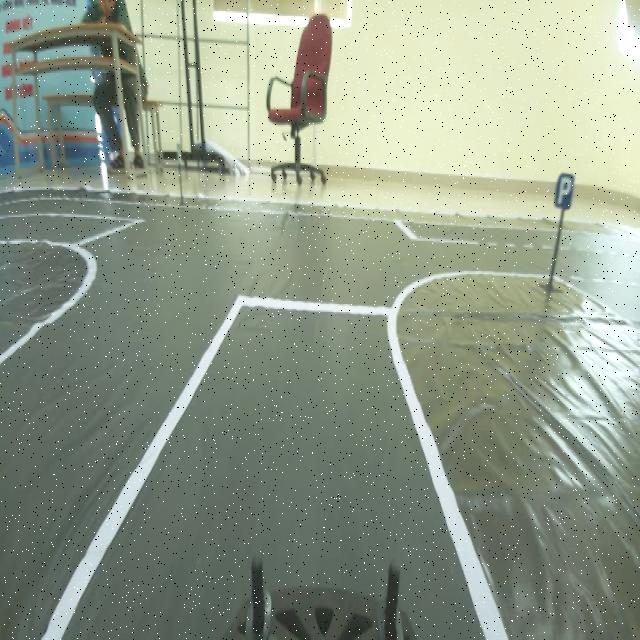parking: (551, 167, 578, 213)
